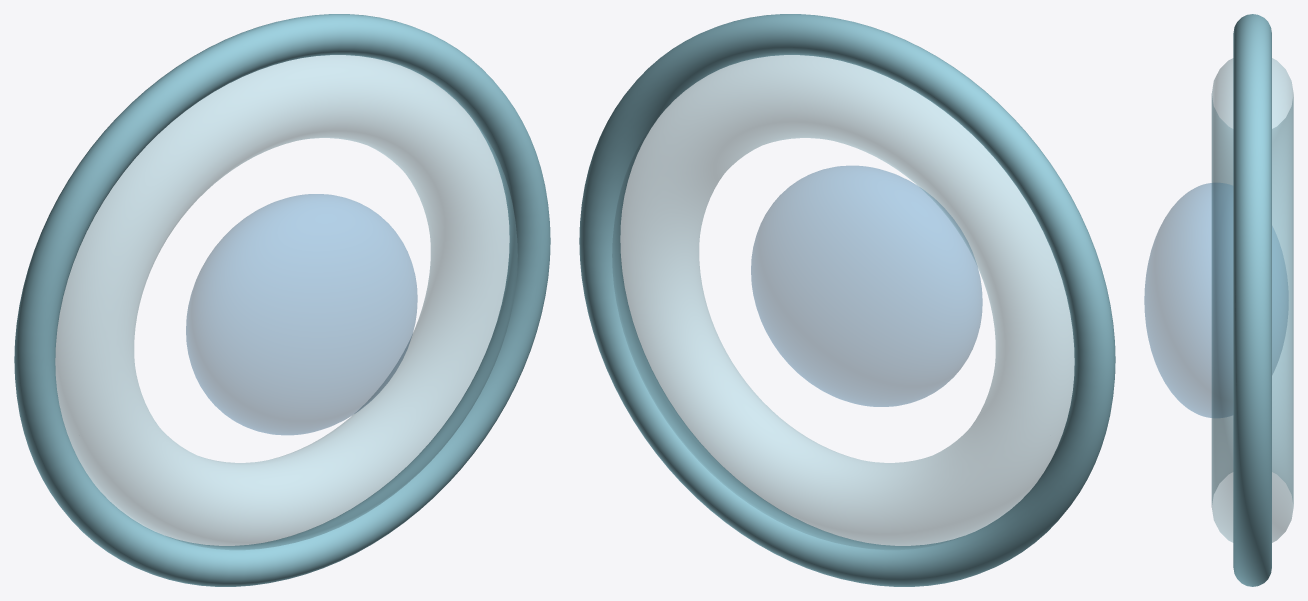
3 views of the same model, side by side, from view 1: azimuth 30°, elevation 25°; view 2: azimuth 150°, elevation 25°; view 3: azimuth 270°, elevation 25° (orthographic). The views are drawn at different scales.
Parts seen in each view (by area): view 1: outer-dial, fixed-collar, inner-dial; view 2: outer-dial, fixed-collar, inner-dial; view 3: fixed-collar, outer-dial, inner-dial.
Part boxes in pixels (left/top/right/bottom): outer-dial: left=55, top=55, right=517, bottom=549; fixed-collar: left=14, top=14, right=550, bottom=586; inner-dial: left=186, top=194, right=417, bottom=434; outer-dial: left=612, top=55, right=1074, bottom=549; fixed-collar: left=579, top=14, right=1115, bottom=586; inner-dial: left=751, top=166, right=982, bottom=406; fixed-collar: left=1233, top=14, right=1271, bottom=586; outer-dial: left=1211, top=58, right=1293, bottom=542; inner-dial: left=1144, top=183, right=1288, bottom=417.
Bounding box in the file's own units: 2.38 × 2.38 × 0.62.
